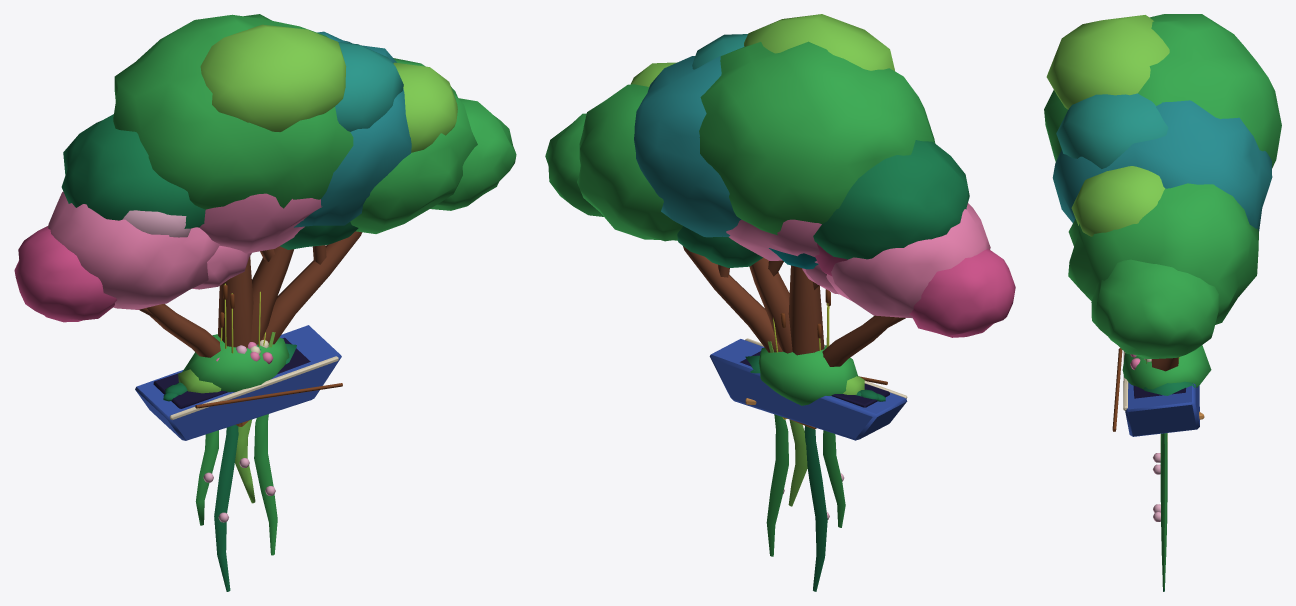
Rendered from nature-BsnNNDsn.glb.
The picture shows the model from 3 angles, left to right: view 1: azimuth 30°, elevation 25°; view 2: azimuth 150°, elevation 25°; view 3: azimuth 270°, elevation 25°; orthographic projection. The views are drawn at different scales.
Parts seen in each view (by area): view 1: treeRound, treeLeanBlossom, treeLean, treeTeal, boat, vineHang, treeBlossom, bushA, reeds; view 2: treeRound, treeLean, treeLeanBlossom, treeTeal, boat, vineHang, bushA, treeBlossom; view 3: treeLean, treeRound, treeTeal, boat, bushA, vineHang.
Part boxes in pixels (bbox=[...]): treeRound: bbox=[61, 14, 353, 348]; treeLeanBlossom: bbox=[14, 191, 251, 357]; treeLean: bbox=[262, 58, 516, 344]; treeTeal: bbox=[251, 31, 411, 344]; boat: bbox=[135, 325, 342, 440]; vineHang: bbox=[195, 414, 277, 591]; treeBlossom: bbox=[199, 193, 322, 253]; bushA: bbox=[178, 334, 296, 393]; reeds: bbox=[219, 283, 275, 353]; treeRound: bbox=[699, 14, 969, 355]; treeLean: bbox=[545, 62, 782, 352]; treeLeanBlossom: bbox=[802, 203, 1015, 366]; treeTeal: bbox=[634, 34, 818, 353]; boat: bbox=[709, 338, 907, 440]; vineHang: bbox=[766, 414, 845, 591]; bushA: bbox=[745, 345, 864, 405]; treeBlossom: bbox=[726, 219, 847, 289]; treeLean: bbox=[1068, 166, 1258, 371]; treeRound: bbox=[1044, 14, 1281, 168]; treeTeal: bbox=[1052, 93, 1272, 231]; boat: bbox=[1112, 348, 1199, 436]; bushA: bbox=[1122, 345, 1211, 395]; vineHang: bbox=[1153, 433, 1167, 591].
Size of the model in its own units: 7.08 by 8.15 by 3.03.
